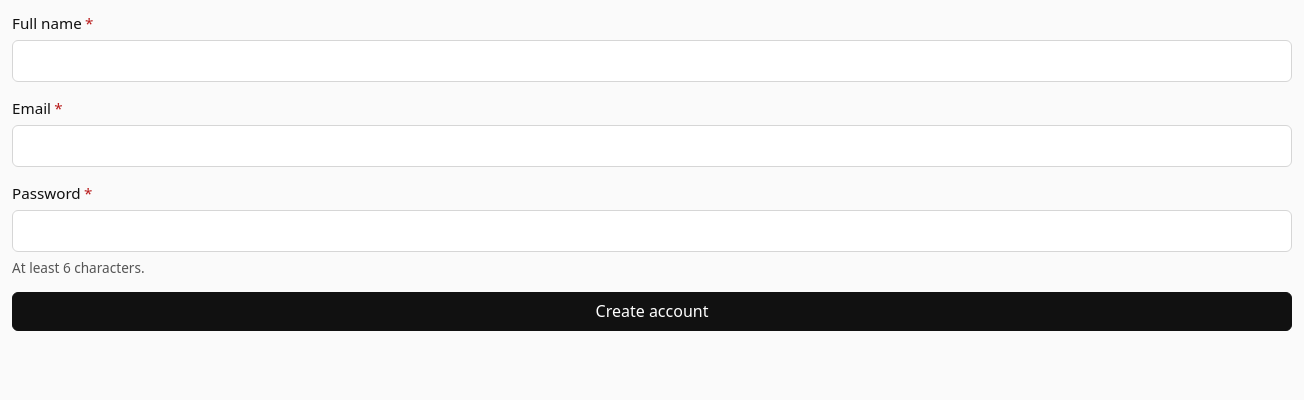
Test: RegisterForm › Pre-CP8 hardening D-1: blank full_name and invalid email show safe copy, not raw Zod defaults
The image size is (1304, 400).
Submit with blank full_name + invalid email + short password
Type "not-an-email" into the field labelled "Email*" at (652, 146), box x1=12 y1=125 x2=1292 y2=167
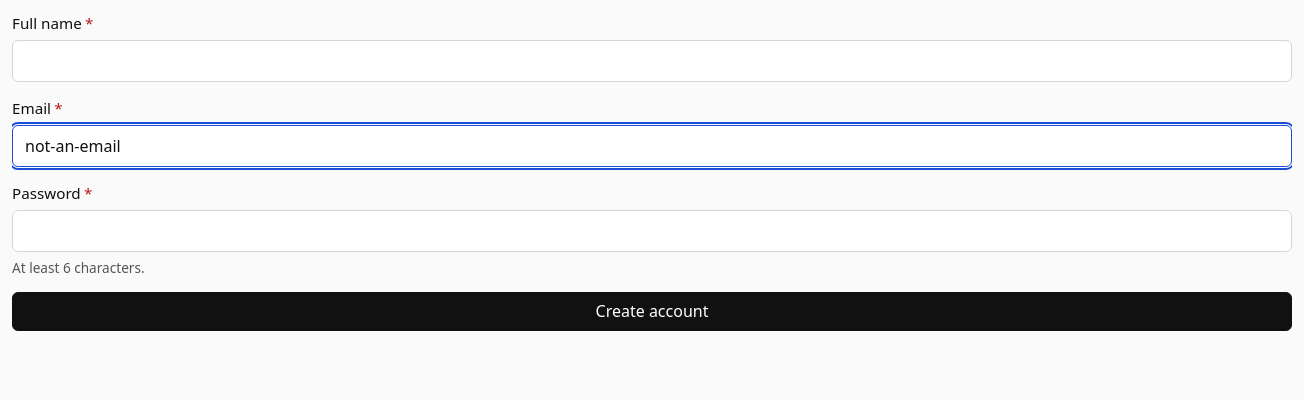
Type "1" into the password field labelled "Password*" at (652, 231), box x1=12 y1=210 x2=1292 y2=252
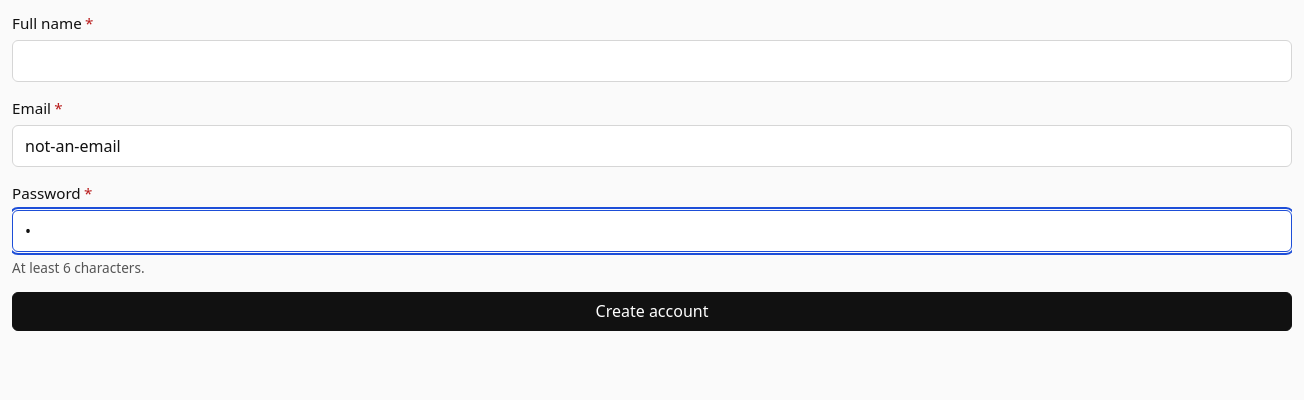
Click the button "Create account" at (652, 312), box x1=12 y1=292 x2=1292 y2=331
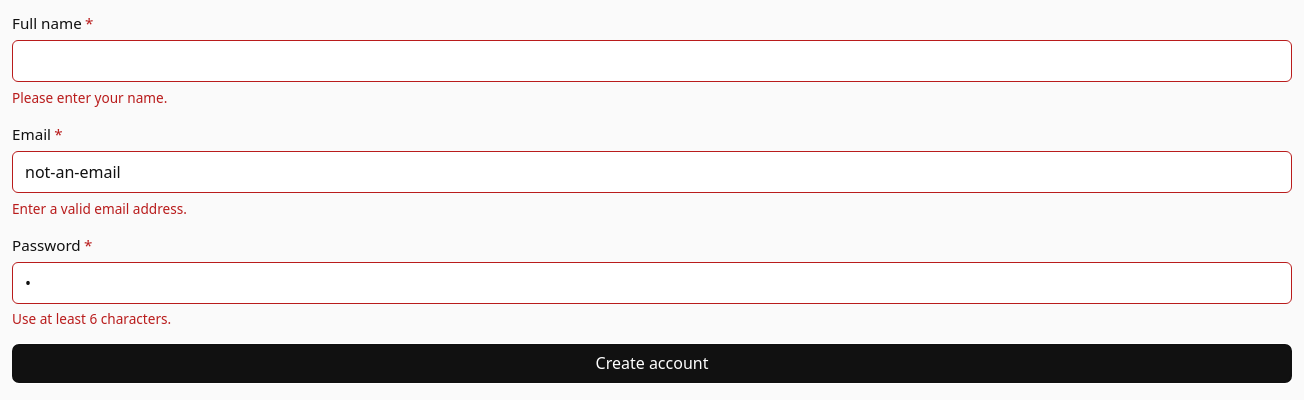
Expected: the text "Please enter your name." is shown, x1=12 y1=88 x2=167 y2=107
Expected: the text "Enter a valid email address." is shown, x1=12 y1=199 x2=187 y2=218
Expected: the text "Use at least 6 characters." is shown, x1=12 y1=310 x2=171 y2=328
